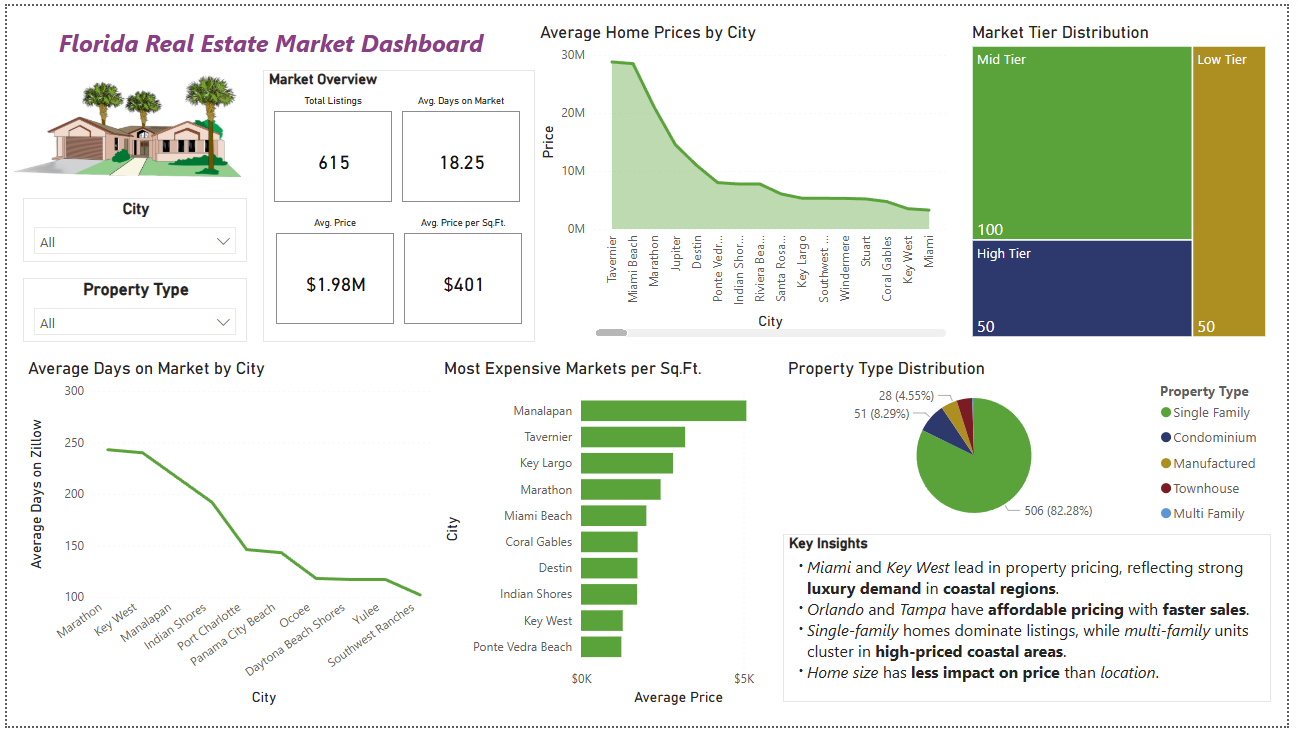

What the dashboard file says about the page in this screenshot:
{"tool":"powerbi","page":{"name":"Page 1","canvas":[1280,720],"ordinal":0},"visuals":[{"type":"areaChart","title":"Average Home Prices by City","fields":{"Category":["AvgPriceByCity.city"],"Y":["Sum(AvgPriceByCity.avg_price_by_city)"]},"box":[528,16,416,320],"z":0},{"type":"barChart","title":"Most Expensive Markets per Sq.Ft.","fields":{"Y":["Sum(PricePerSqFt.avg_price_per_sqft_by_city)","select"],"Category":["PricePerSqFt.city"]},"box":[496,352,304,352],"z":1000},{"type":"textbox","title":"Market Overview","box":[256,64,272,272],"z":2000},{"type":"pieChart","title":"Property Type Distribution","fields":{"Category":["PropertyTypeDist.Property_type"],"Y":["Sum(PropertyTypeDist.count_property_types)"]},"box":[816,352,448,176],"z":3000},{"type":"lineChart","title":"Average Days on Market by City","fields":{"Category":["AvgDaysOnZillow.city"],"Y":["Sum(AvgDaysOnZillow.avg_days_on_zillow_by_city)"]},"box":[128,352,352,352],"z":4000},{"type":"treemap","title":"Market Tier Distribution","fields":{"Group":["MarketTierSegmentation.price_tier"],"Values":["CountNonNull(MarketTierSegmentation.avg_prop_price)"]},"box":[960,16,304,320],"z":5000},{"type":"cardVisual","title":"Total Listings","fields":{"Data":["CountNonNull(zillow_properties_florida.Listing description)"]},"box":[262,88.9,128,112],"z":6000},{"type":"slicer","title":"City","fields":{"Values":["AvgPriceByCity.city"]},"box":[16,192,224,64],"z":7000},{"type":"cardVisual","title":"Avg. Bathrooms","fields":{"Data":["Avg(zillow_properties_florida.Bathrooms)"]},"box":[16,528,96,112],"z":8000},{"type":"cardVisual","title":"Avg. Price","fields":{"Data":["Avg(zillow_properties_florida.Property price (USD))"]},"box":[263.6,210.7,128,112],"z":9000},{"type":"image","box":[0,64,240,112],"z":10000},{"type":"textbox","title":"Key Insights","box":[784,528,480,176],"z":11000},{"type":"cardVisual","title":"Avg. Days on Market","fields":{"Data":["Avg(zillow_properties_florida.Number of days on Zillow)"]},"box":[390,88.9,128,112],"z":12000},{"type":"textbox","box":[16,16,496,48],"z":13000},{"type":"slicer","title":"Property Type","fields":{"Values":["PropertyTypeDist.Property_type"]},"box":[16,272,224,64],"z":14000},{"type":"cardVisual","title":"Avg. Price per Sq.Ft.","fields":{"Data":["Avg(PricePerSqFt.avg_price_per_sqft_by_city)"]},"box":[391.6,210.7,128,112],"z":15000},{"type":"cardVisual","title":"Avg. Bedrooms","fields":{"Data":["Avg(zillow_properties_florida.Bedrooms)"]},"box":[16,384,96,112],"z":16000}]}

Visuals, with their boxes in screenshot pixels (x1, y1, x2, y2), scaled from the page's 1280x720 canvas onto the 1298x734 screenshot:
"Average Home Prices by City" areaChart: [left=535, top=16, right=957, bottom=343]
"Most Expensive Markets per Sq.Ft." barChart: [left=503, top=359, right=811, bottom=718]
"Market Overview" textbox: [left=260, top=65, right=535, bottom=343]
"Property Type Distribution" pieChart: [left=827, top=359, right=1282, bottom=538]
"Average Days on Market by City" lineChart: [left=130, top=359, right=487, bottom=718]
"Market Tier Distribution" treemap: [left=974, top=16, right=1282, bottom=343]
"Total Listings" cardVisual: [left=266, top=91, right=395, bottom=205]
"City" slicer: [left=16, top=196, right=243, bottom=261]
"Avg. Bathrooms" cardVisual: [left=16, top=538, right=114, bottom=652]
"Avg. Price" cardVisual: [left=267, top=215, right=397, bottom=329]
image: [left=0, top=65, right=243, bottom=179]
"Key Insights" textbox: [left=795, top=538, right=1282, bottom=718]
"Avg. Days on Market" cardVisual: [left=395, top=91, right=525, bottom=205]
textbox: [left=16, top=16, right=519, bottom=65]
"Property Type" slicer: [left=16, top=277, right=243, bottom=343]
"Avg. Price per Sq.Ft." cardVisual: [left=397, top=215, right=527, bottom=329]
"Avg. Bedrooms" cardVisual: [left=16, top=391, right=114, bottom=506]
